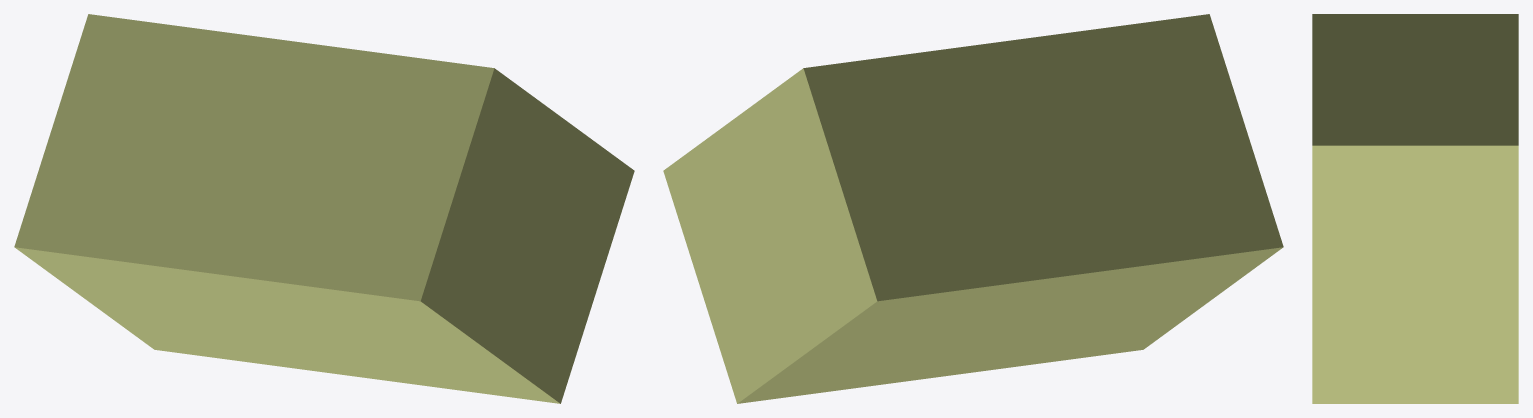
3 renders of one model, left to right at view 1: azimuth 30°, elevation 25°; view 2: azimuth 150°, elevation 25°; view 3: azimuth 270°, elevation 25°, orthographic. The views are drawn at different scales.
Parts seen in each view (by area): view 1: 0_1_0_0_0_1_2_1_0_0; view 2: 0_1_0_0_0_1_2_1_0_0; view 3: 0_1_0_0_0_1_2_1_0_0.
Part boxes in pixels (x1=…): 0_1_0_0_0_1_2_1_0_0: x1=14, y1=14, x2=634, y2=403; 0_1_0_0_0_1_2_1_0_0: x1=663, y1=14, x2=1283, y2=403; 0_1_0_0_0_1_2_1_0_0: x1=1312, y1=14, x2=1518, y2=403.
Bounding box in the file's own units: 17.8 × 13.05 × 9.
